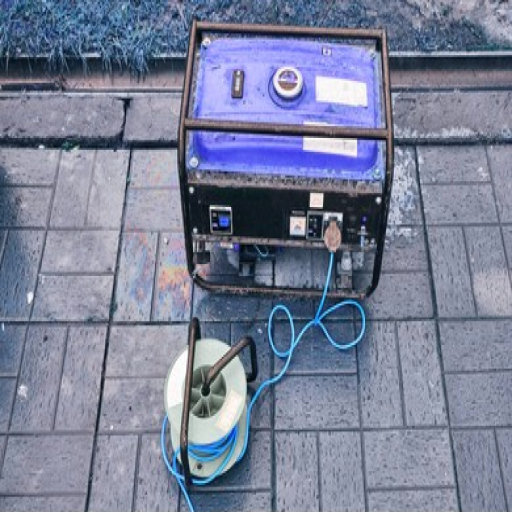portable_generator: (177, 18, 396, 301)
